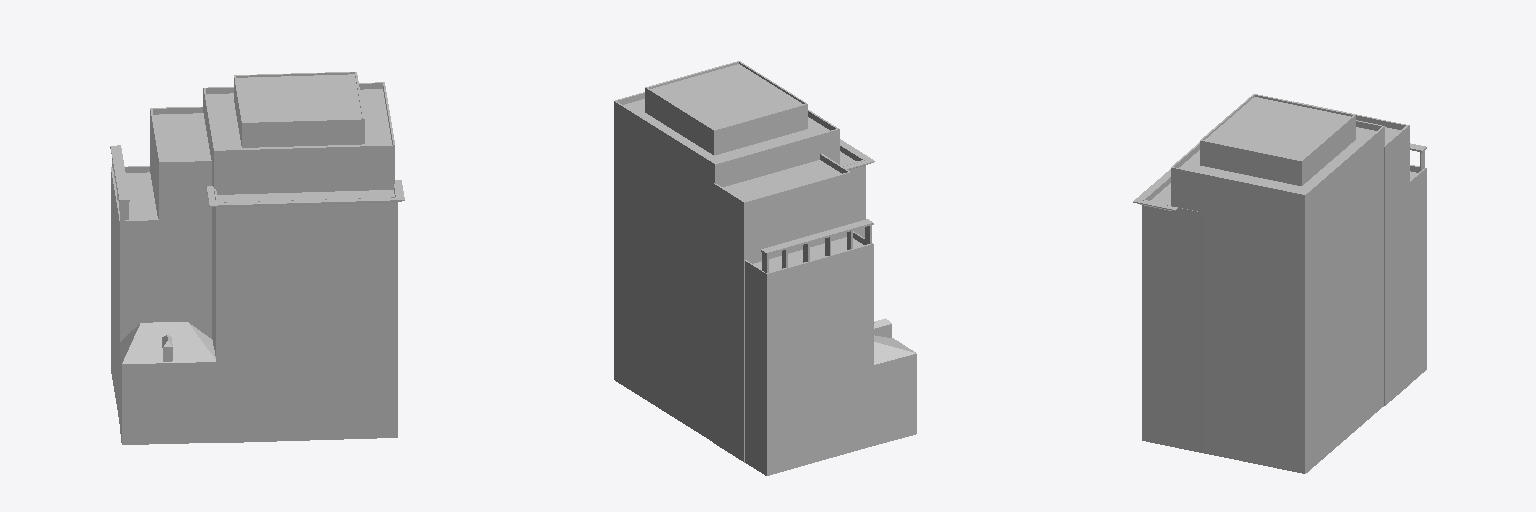
Rendered from multifamily_9.obj.
The picture shows the model from 3 angles: view 1: azimuth 30°, elevation 25°; view 2: azimuth 150°, elevation 25°; view 3: azimuth 270°, elevation 25°; orthographic projection.
Visible parts, largest first — view 1: object_74, object_94, object_84, object_127, object_71, object_3, object_64, object_91, object_125, object_101, object_2, object_10 (+5 smaller); view 2: object_82, object_2, object_92, object_93, object_71, object_1, object_126, object_83, object_63, object_101, object_62, object_91 (+3 smaller); view 3: object_85, object_82, object_75, object_92, object_71, object_1, object_65, object_91, object_62.
Part boxes in pixels (x1,y1,x2,y2): object_74: (216,197,397,442); object_94: (159,161,211,338); object_84: (214,145,394,194); object_127: (122,362,215,444); object_71: (237,74,361,121); object_3: (120,220,158,341); object_64: (242,119,364,147); object_91: (207,89,391,149); object_125: (122,322,215,363); object_101: (154,113,210,160); object_2: (111,172,119,416); object_10: (126,172,157,219); object_82: (614,101,714,441); object_2: (767,244,873,475); object_92: (713,183,743,461); object_93: (744,172,851,462); object_71: (650,64,801,129); object_1: (745,261,766,475); object_126: (874,356,916,445); object_83: (715,129,839,186); object_63: (714,104,807,155); object_101: (723,160,841,200); object_62: (645,88,713,154); object_91: (624,99,829,162); object_85: (1171,168,1304,473); object_82: (1305,127,1384,473); object_75: (1142,200,1204,453); object_92: (1385,125,1409,405); object_71: (1205,97,1350,159); object_1: (1410,168,1426,383); object_65: (1200,141,1301,185); object_91: (1179,127,1376,193); object_62: (1302,115,1355,185).
Bounding box in the file's own units: 154 × 155 × 138.